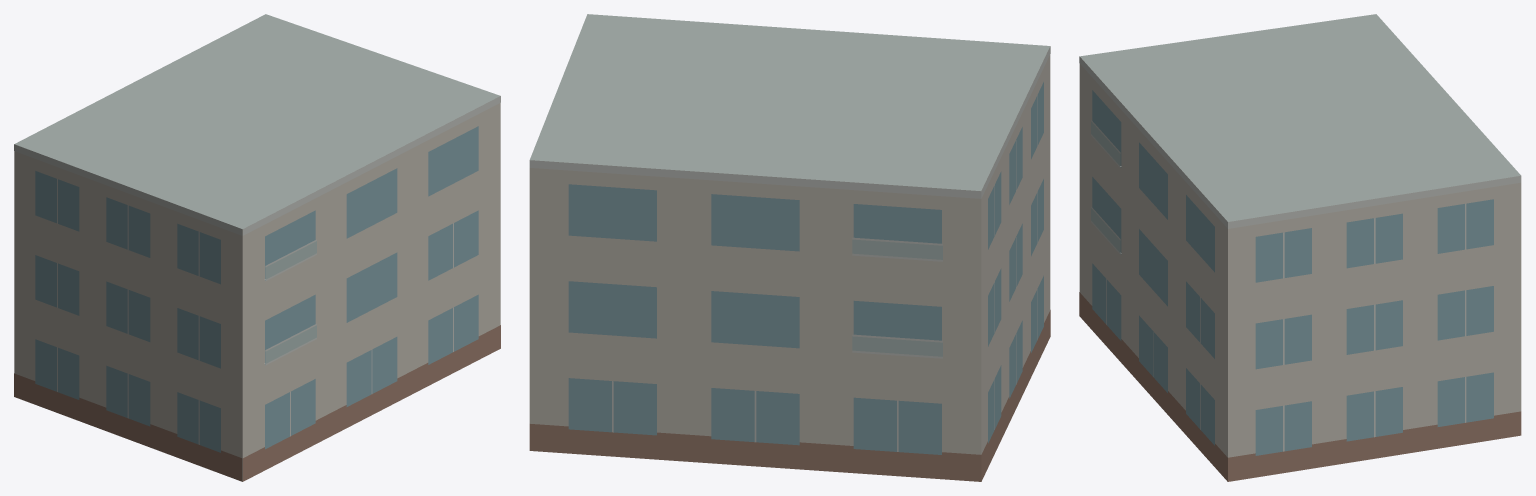
Rendered from survey-upis-33024120.glb.
3 views of the same model, side by side, from view 1: azimuth 30°, elevation 25°; view 2: azimuth 150°, elevation 25°; view 3: azimuth 270°, elevation 25° (orthographic). The views are drawn at different scales.
Visible parts, largest first — view 1: survey-upis-33024120.tmp; view 2: survey-upis-33024120.tmp; view 3: survey-upis-33024120.tmp.
Boxes of the visible parts, bbox=[...] form: survey-upis-33024120.tmp: bbox=[14, 14, 500, 481]; survey-upis-33024120.tmp: bbox=[529, 14, 1050, 481]; survey-upis-33024120.tmp: bbox=[1079, 14, 1521, 481].
Bounding box in the file's own units: 15.72 × 9.15 × 14.11.
